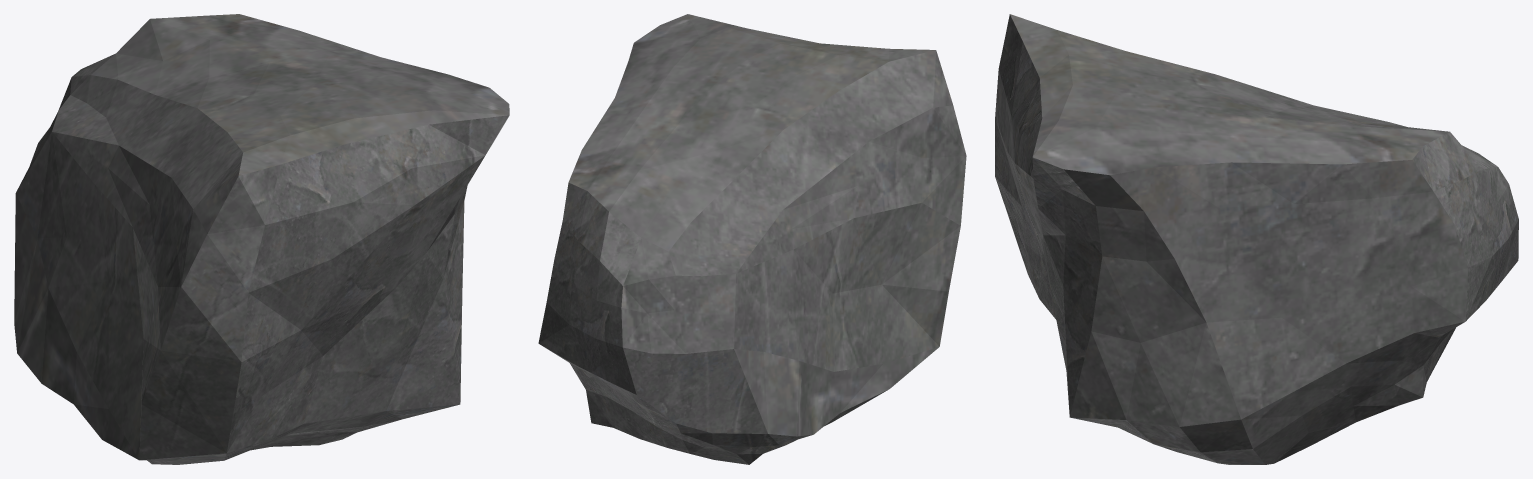
Rendered from Rock01.fbx.
3 views of the same model, side by side, from view 1: azimuth 30°, elevation 25°; view 2: azimuth 150°, elevation 25°; view 3: azimuth 270°, elevation 25° (orthographic). The views are drawn at different scales.
Visible parts, largest first — view 1: SM_ENV_NATURE_Cave_Rock_M_04.mo; view 2: SM_ENV_NATURE_Cave_Rock_M_04.mo; view 3: SM_ENV_NATURE_Cave_Rock_M_04.mo.
Part boxes in pixels (<box>): SM_ENV_NATURE_Cave_Rock_M_04.mo: <box>14,14,509,464</box>; SM_ENV_NATURE_Cave_Rock_M_04.mo: <box>538,14,966,464</box>; SM_ENV_NATURE_Cave_Rock_M_04.mo: <box>995,14,1518,464</box>.
Size of the model in its own units: 146 by 149 by 199.
Materials: 1 (1 with a texture image).
